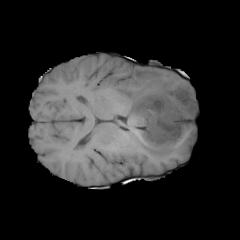glioma: (114, 66, 197, 157)
